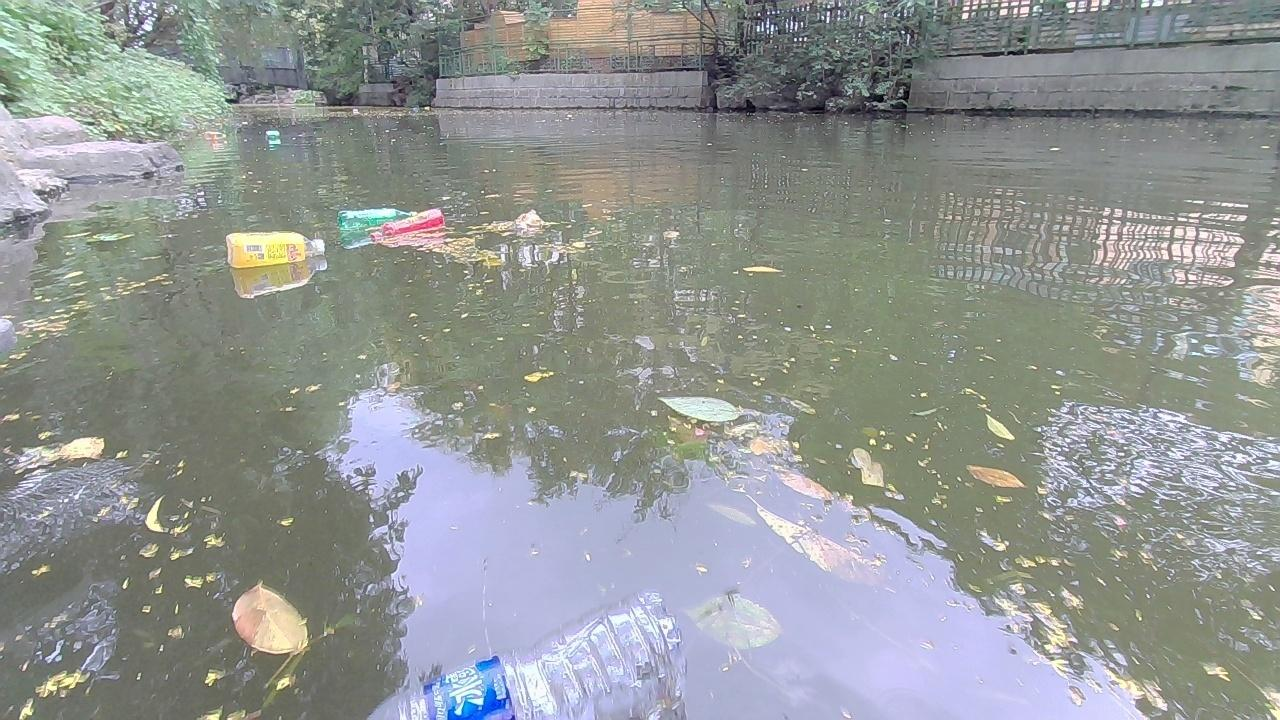bottle: (341, 588, 685, 719), (221, 230, 326, 268), (366, 205, 446, 243), (333, 204, 420, 231), (201, 126, 229, 142), (259, 130, 282, 140), (348, 105, 362, 115), (424, 104, 431, 111)
